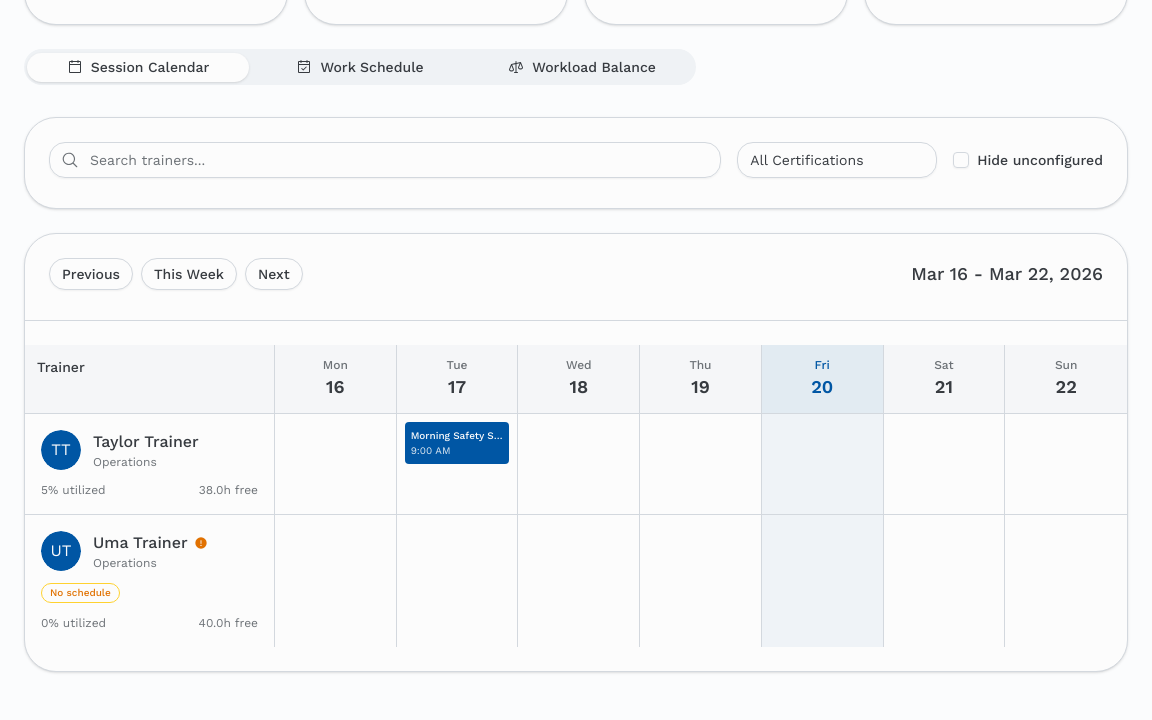
Test case: TrainerAvailability › shows schedule and certification fallback text for trainers without profile details
This screenshot has width=1152, height=720.
(page scrolled)
Click the button "UT Uma Trainer Operations No schedule 0% utilized 40.0h free": point(150, 581) [25,515,275,647]
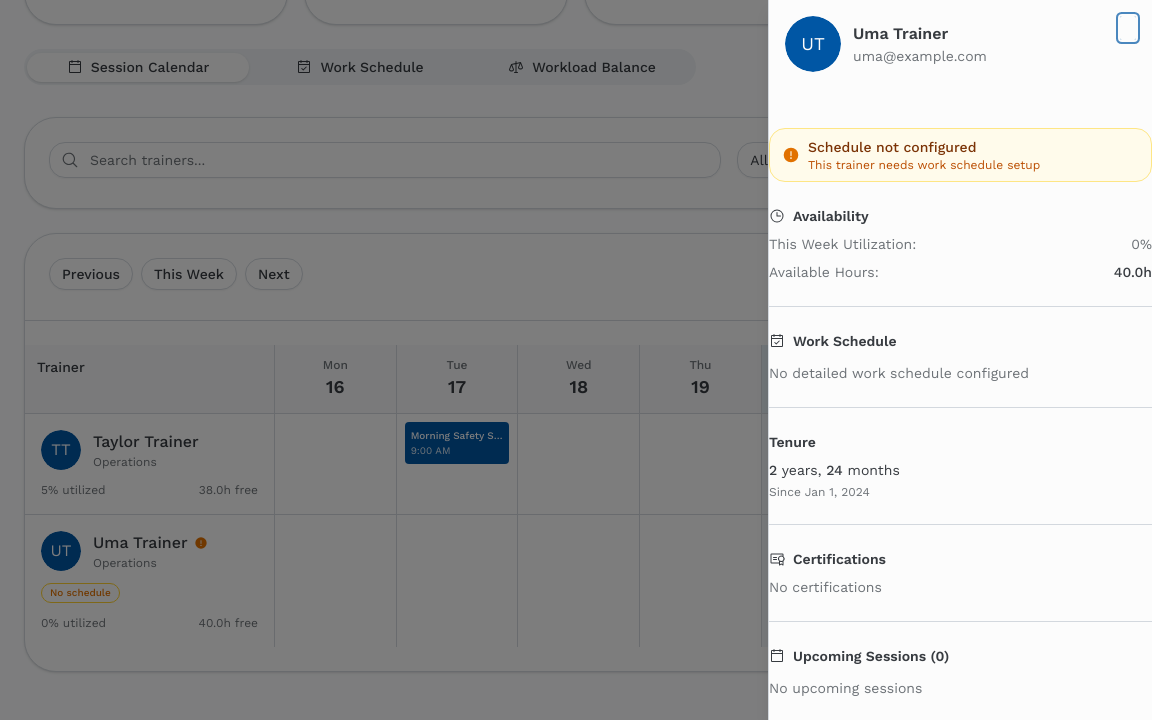
Now the text "No detailed work schedule configured" is shown, box [769,365,1029,381]
Now the text "No certifications" is shown, box [769,577,882,597]
